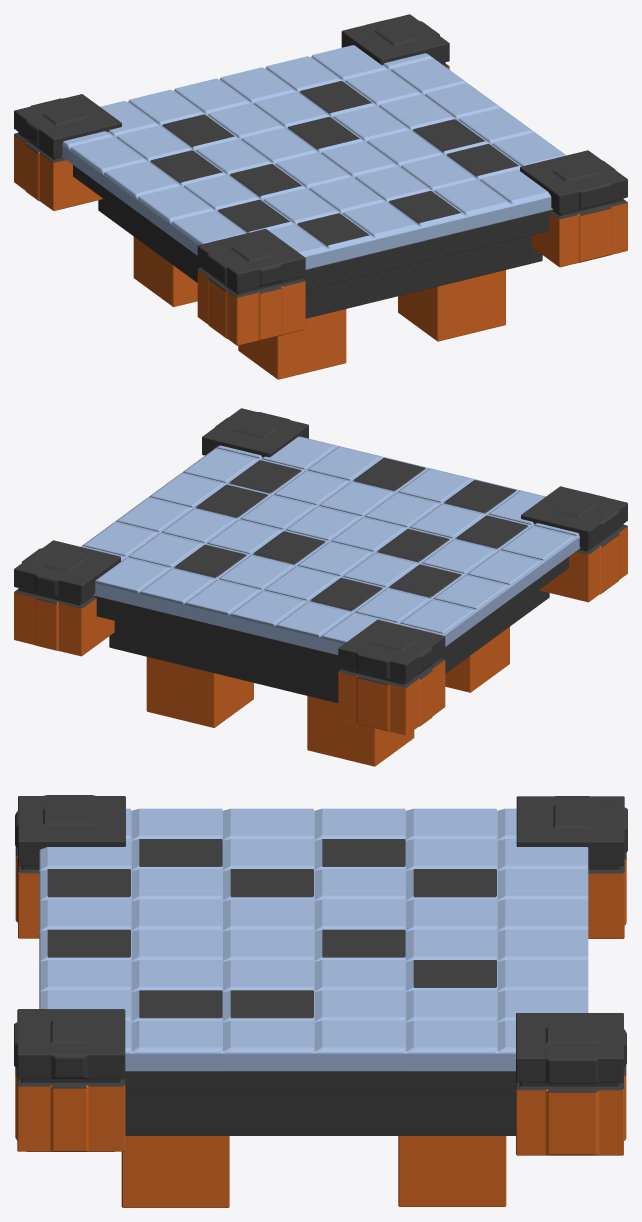
Rendered from platform.fbx.
3 views of the same model, one above another, from view 1: azimuth 30°, elevation 25°; view 2: azimuth 150°, elevation 25°; view 3: azimuth 270°, elevation 25° (orthographic). The views are drawn at different scales.
Visible parts, largest first — view 1: Platform; view 2: Platform; view 3: Platform.
Part boxes in pixels (box(x1,y1,x2,y2)): Platform: box(14, 14, 627, 379); Platform: box(14, 408, 627, 766); Platform: box(14, 795, 627, 1207).
Size of the model in its own units: 1162 by 431 by 1137.
